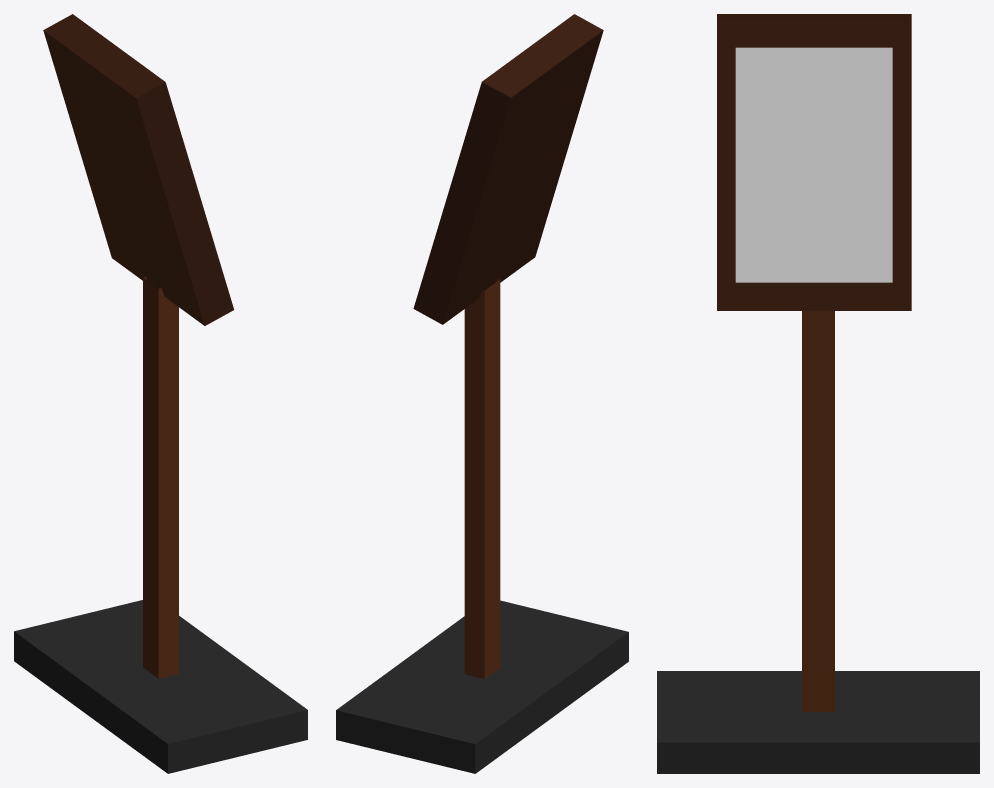
The model's file is standing_sign.fbx.
3 renders of one model, left to right at view 1: azimuth 30°, elevation 25°; view 2: azimuth 150°, elevation 25°; view 3: azimuth 270°, elevation 25°, orthographic. The views are drawn at different scales.
Visible parts, largest first — view 1: sign_picture, standing_sign, stem; view 2: sign_picture, standing_sign, stem; view 3: sign_picture, standing_sign, stem.
Part boxes in pixels (x1,y1,x2,y2): sign_picture: (43, 14, 233, 325); standing_sign: (14, 600, 307, 773); stem: (143, 276, 178, 678); sign_picture: (413, 14, 603, 324); standing_sign: (336, 600, 628, 773); stem: (464, 278, 500, 678); sign_picture: (717, 14, 911, 310); standing_sign: (657, 671, 979, 773); stem: (802, 311, 834, 711).
Size of the model in its own units: 30.87 by 137 by 57.53.
Materials: 1 (1 with a texture image).
